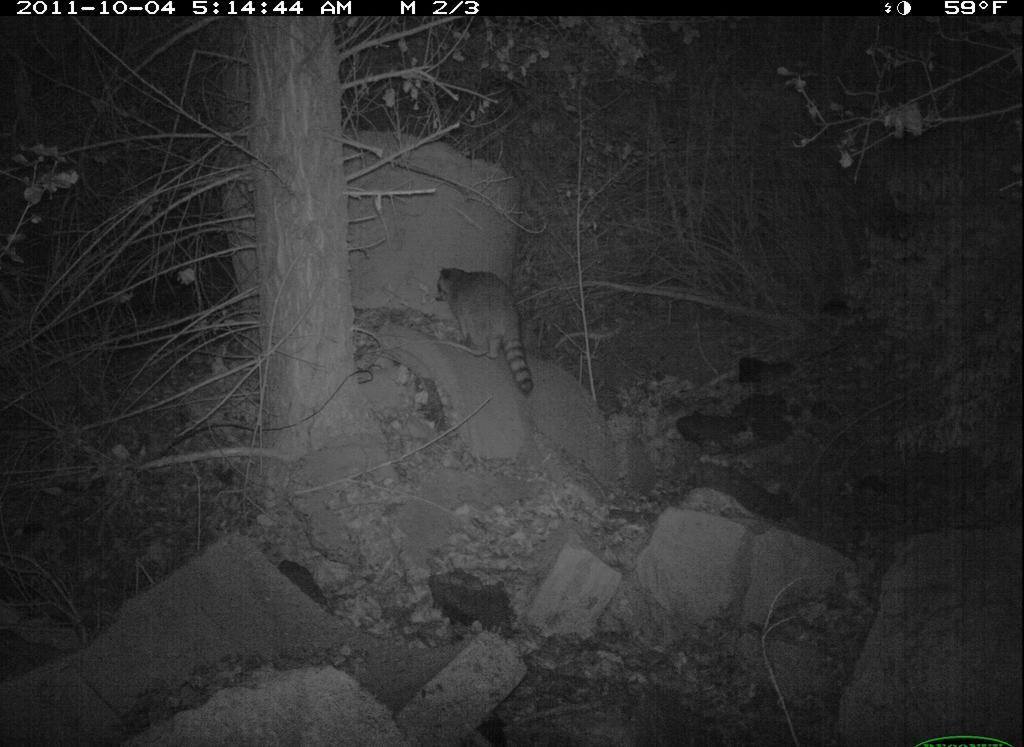raccoon: (406, 254, 546, 401)
